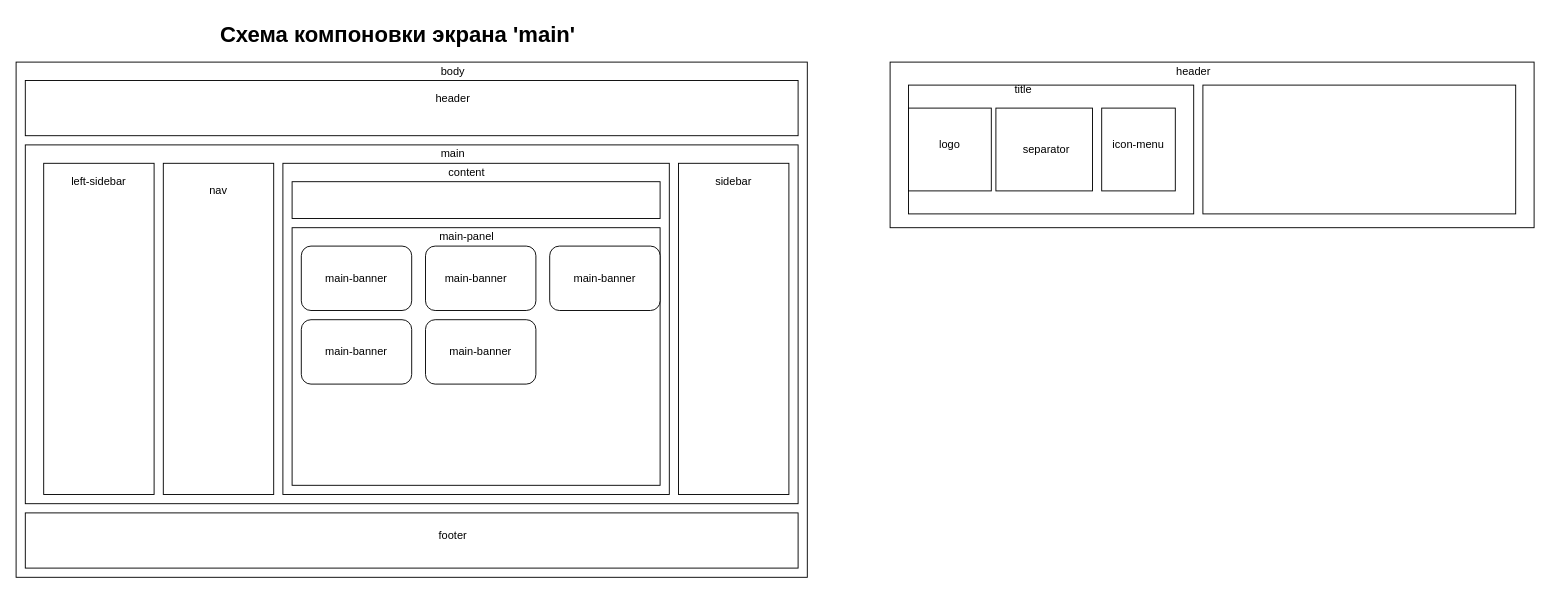
The diagram is 1550 pixels wide and 593 high, and some of its shapes have lost their labels. The shapes that lost their labels are listed below. From the top down, each one's box as (x1, y1, x2, y2) in pixels, then its label:
(1202, 84, 1516, 214): main-menu
(291, 181, 660, 218): main-title
